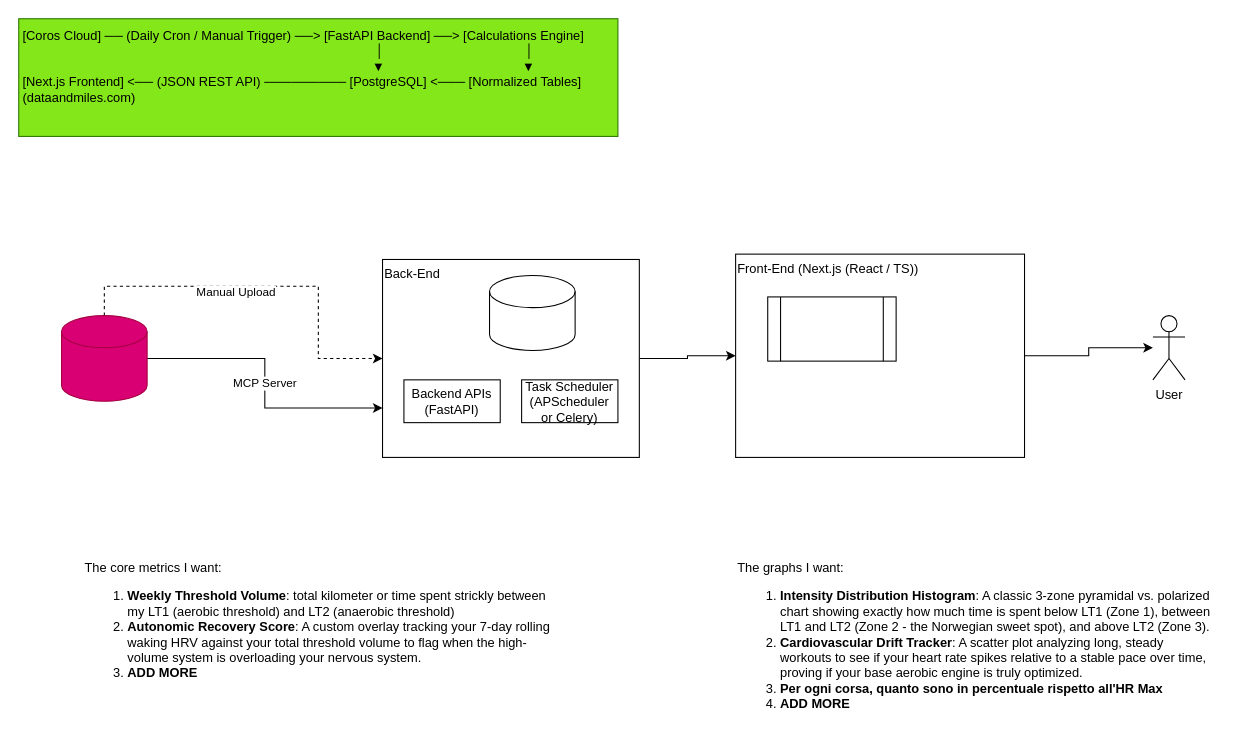
Image size: 1236x754. Some labels were removed from this diagram. Each missing label, with the box of its shape:
COROS DB: (60, 315, 147, 401)
Dashboards: (767, 296, 896, 361)
Internal DB (PostgreSQL): (488, 274, 575, 350)
